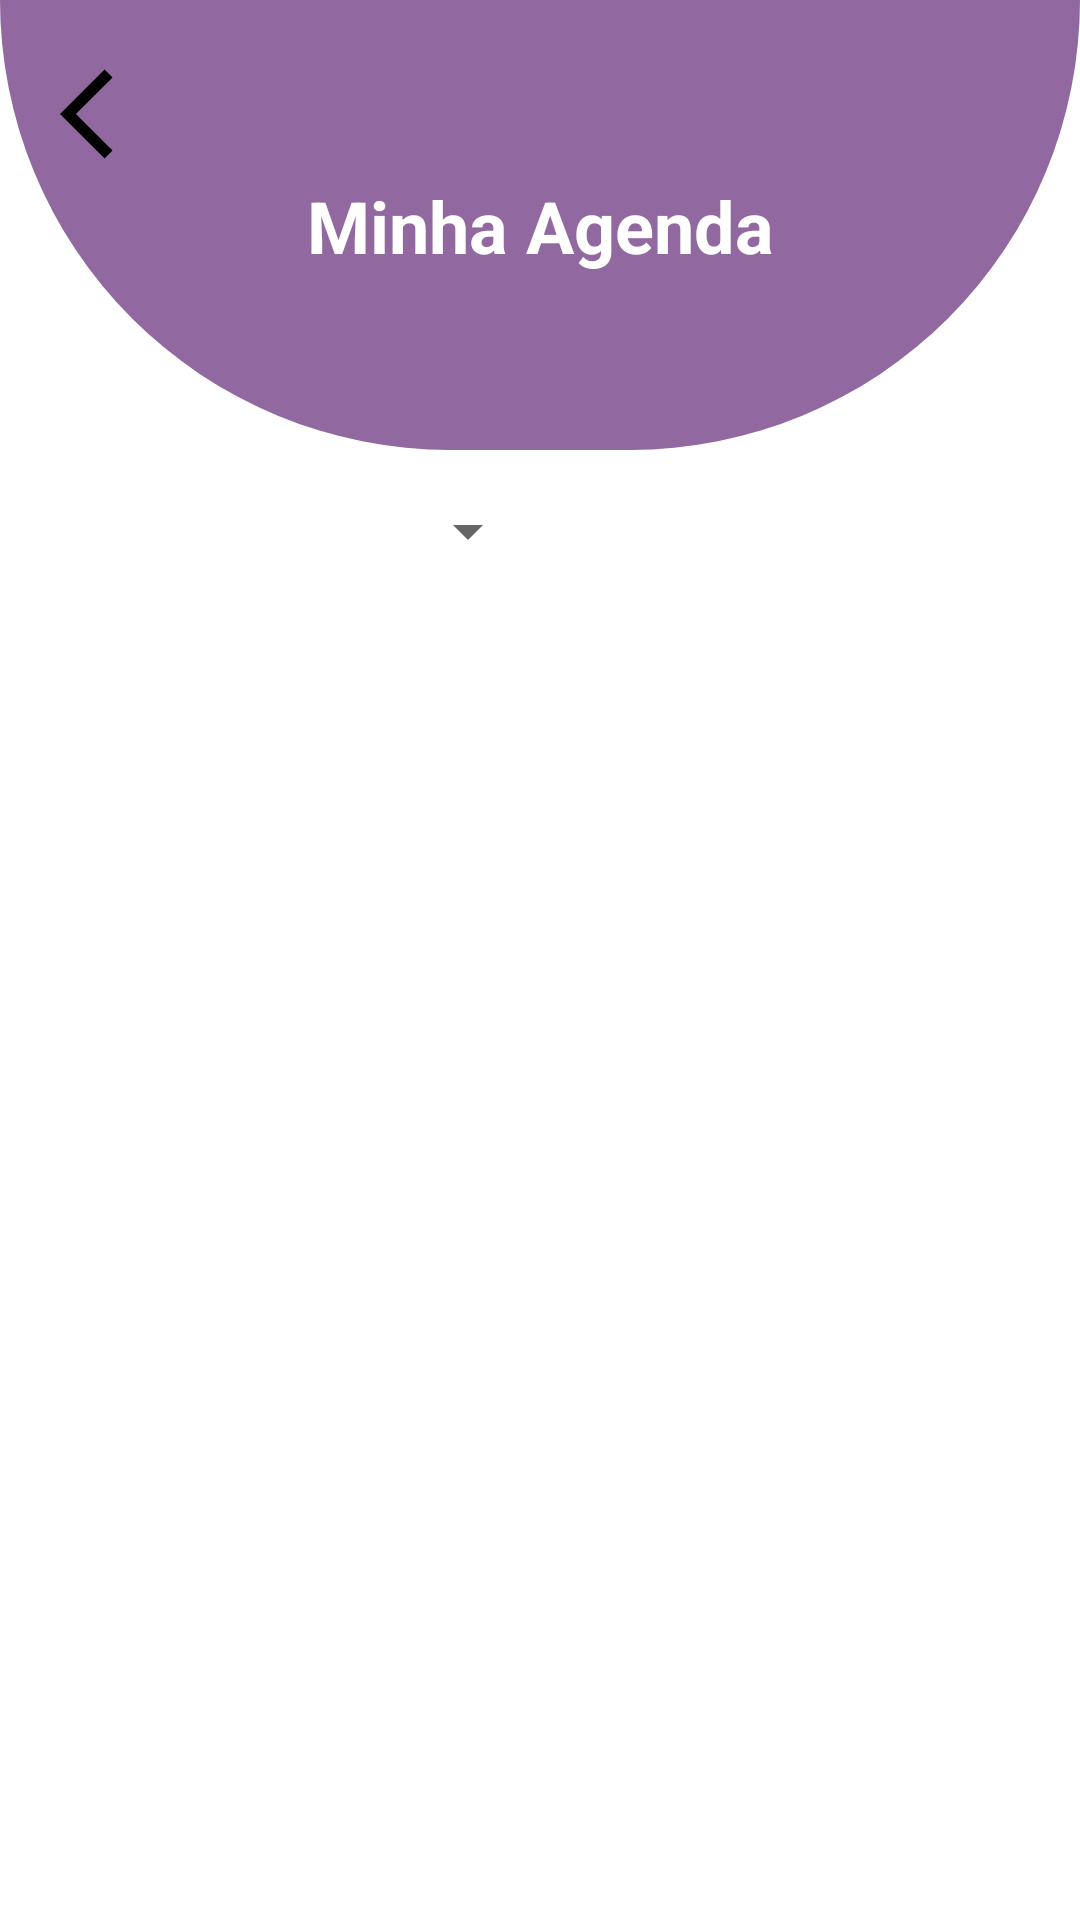

Icons on this 1080 × 1920 Android screen, each with its box as (x1, y1, x2, y2):
back: (60, 69, 113, 159)
